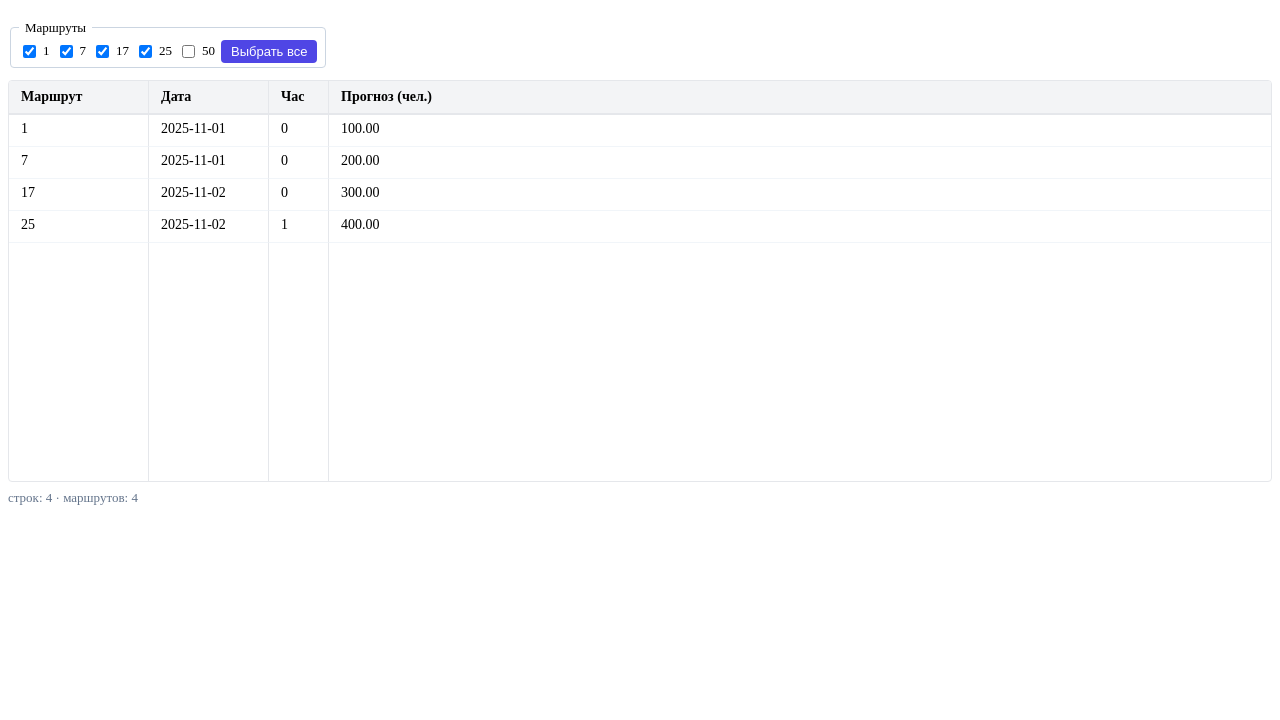
Scenario: <PredictionsTable> › кнопка "Показать все" переключает состояние
Click the button with test id "predictions-table-show-all" at x=269, y=51, box [221,40,318,63]
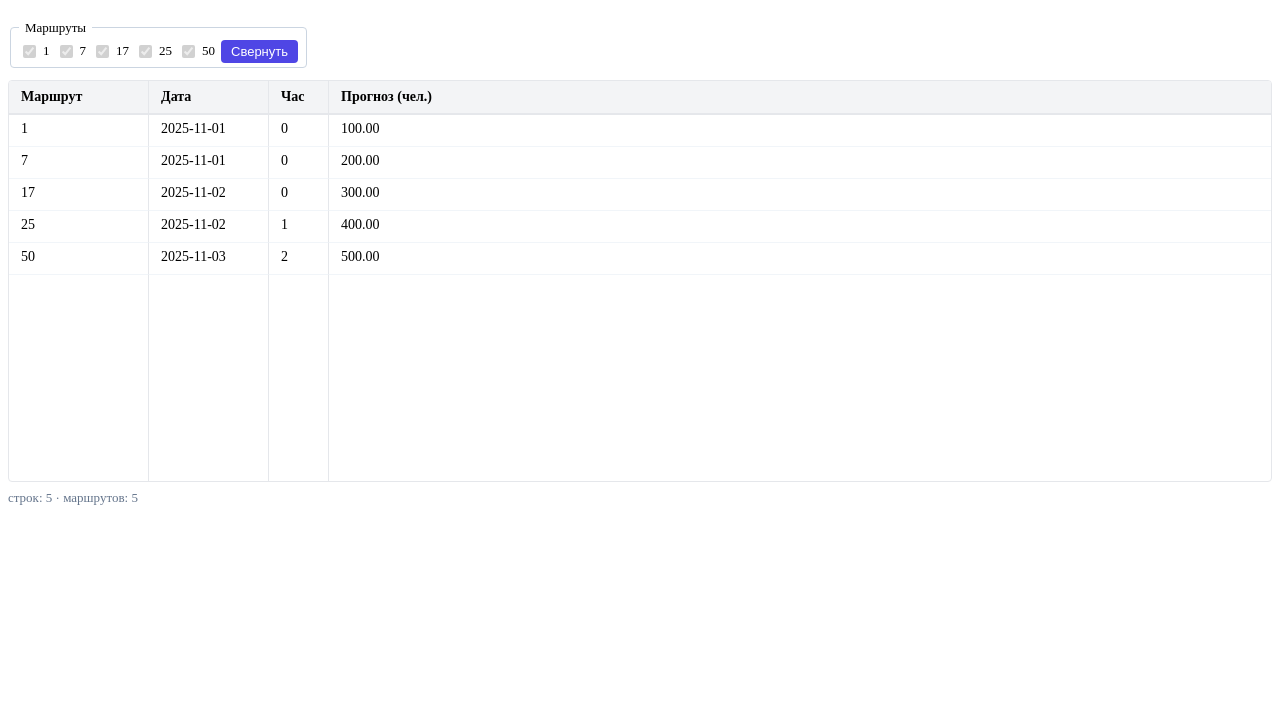
Expected: the button with test id "predictions-table-collapse" is shown, [221,40,298,63]
